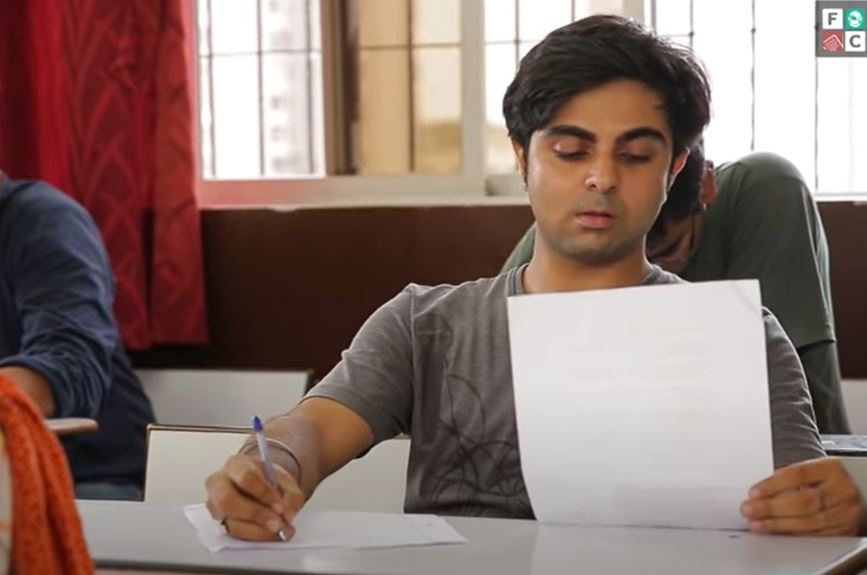student: (245, 73, 739, 575)
